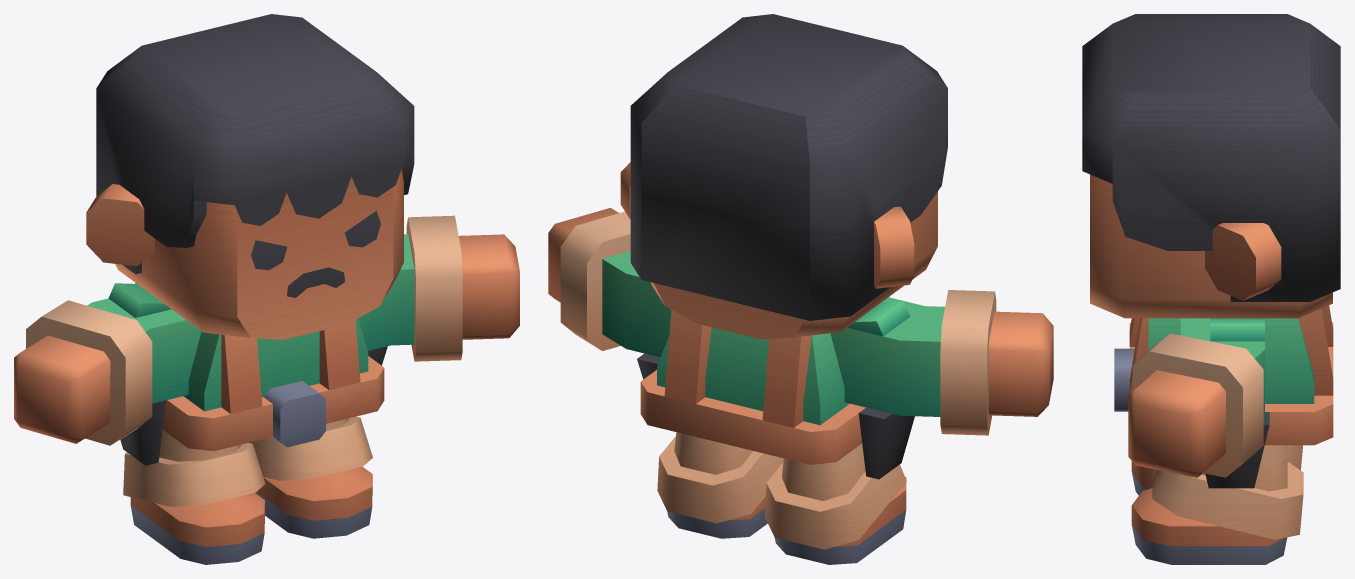
File: PlayerMesh1.glb
3 renders of one model, left to right at view 1: azimuth 30°, elevation 25°; view 2: azimuth 150°, elevation 25°; view 3: azimuth 270°, elevation 25°, orthographic.
Parts seen in each view (by area): view 1: head-mesh, body-mesh; view 2: head-mesh, body-mesh; view 3: head-mesh, body-mesh.
Boxes of the visible parts, box(x1,y1,x2,y2) form: head-mesh: box(86, 14, 414, 339); body-mesh: box(14, 215, 519, 564); head-mesh: box(620, 14, 947, 339); body-mesh: box(548, 208, 1053, 564); head-mesh: box(1082, 14, 1340, 318); body-mesh: box(1114, 305, 1333, 564).
Size of the model in its own units: 0.7672 by 0.6713 by 0.34.
Materials: 1 (1 with a texture image).
